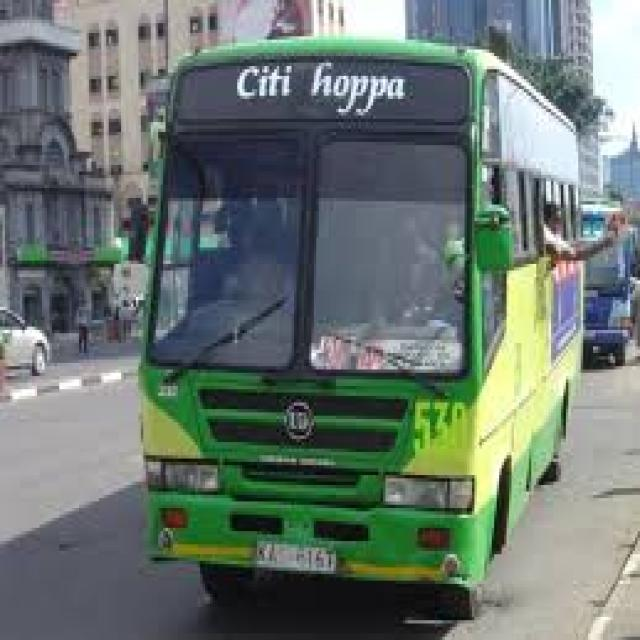bus: (114, 9, 618, 627)
